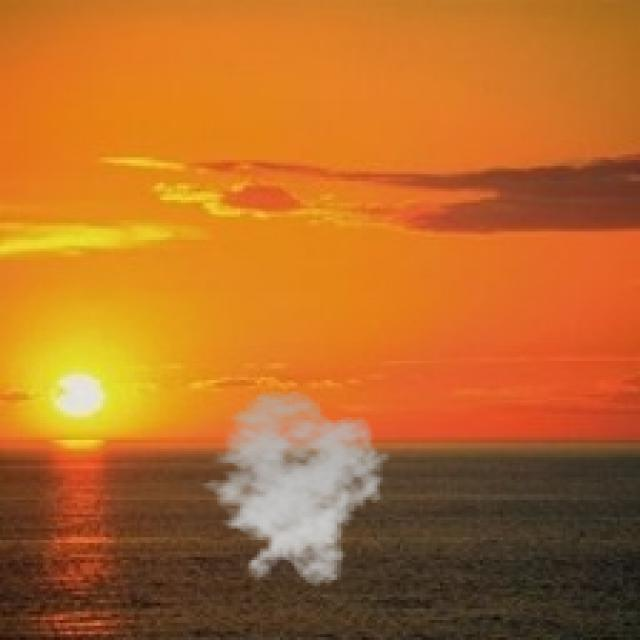smoke: (192, 388, 392, 588)
